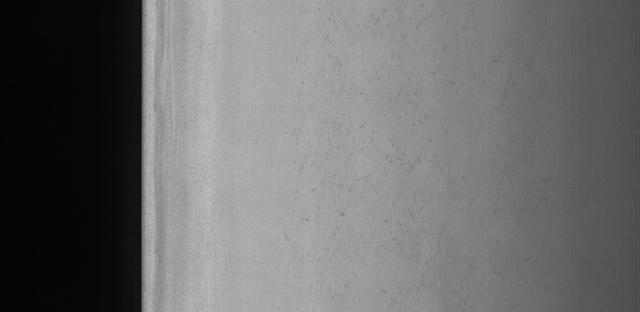silk_spot: (297, 15, 447, 253)
